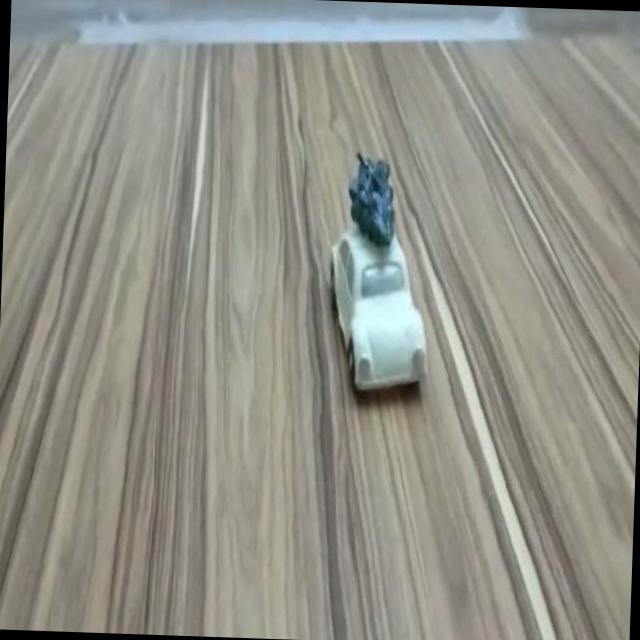car: (326, 234, 432, 394)
